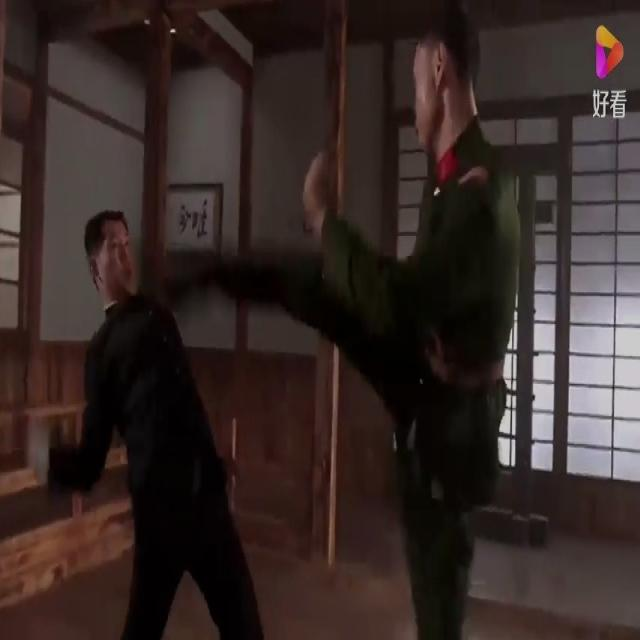fight: (12, 0, 543, 639)
